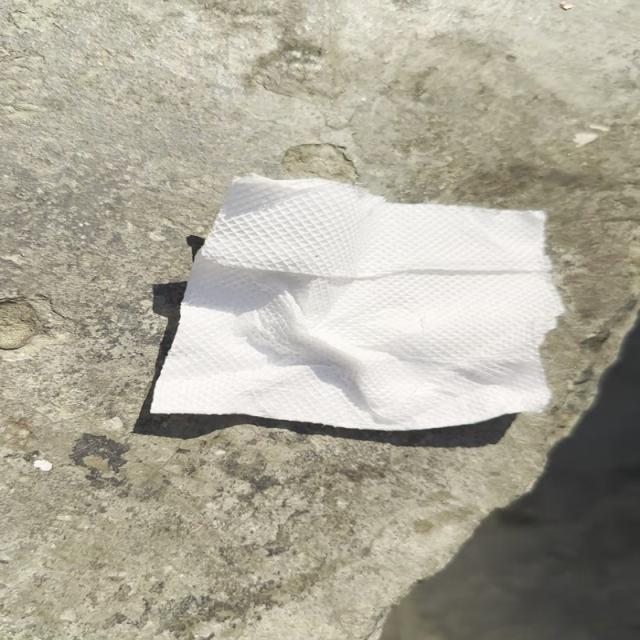tissue: (138, 170, 562, 430)
